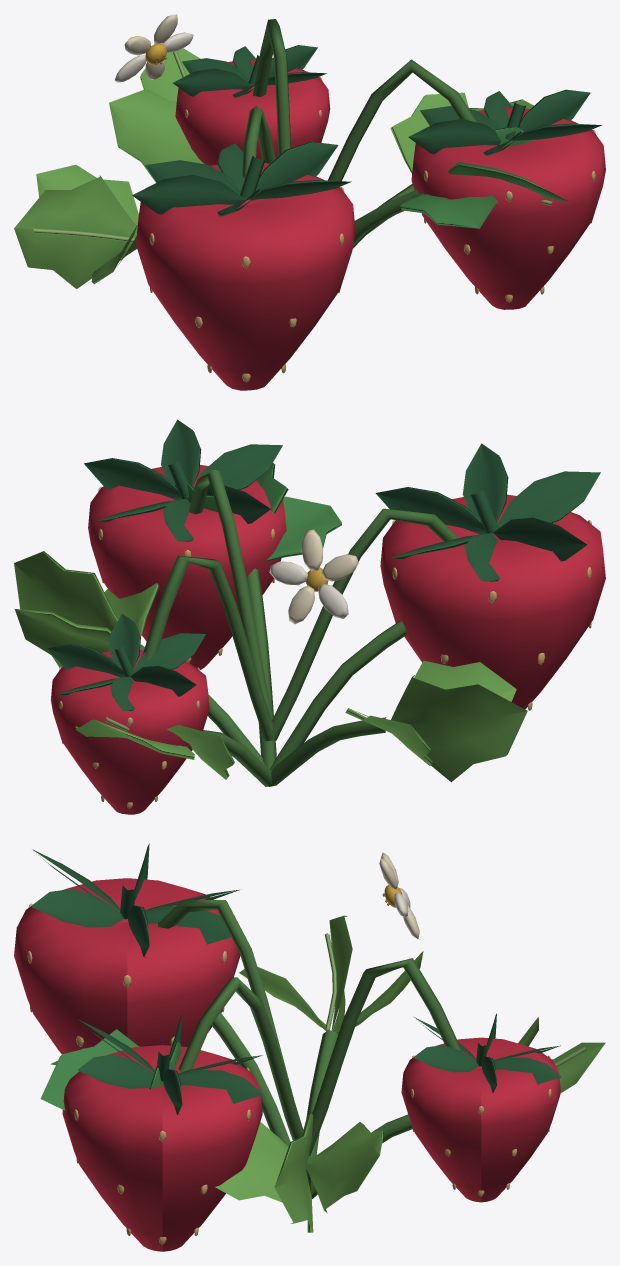
The model's file is fresa_3.glb.
3 renders of one model, top to bottom at view 1: azimuth 30°, elevation 25°; view 2: azimuth 150°, elevation 25°; view 3: azimuth 270°, elevation 25°, orthographic. The views are drawn at different scales.
Visible parts, largest first — view 1: fresa_3_roseta_0; view 2: fresa_3_roseta_0; view 3: fresa_3_roseta_0.
Boxes of the visible parts, left/top/right/bottom form: fresa_3_roseta_0: left=14, top=14, right=605, bottom=390; fresa_3_roseta_0: left=14, top=419, right=605, bottom=814; fresa_3_roseta_0: left=14, top=843, right=605, bottom=1251.
Bounding box in the file's own units: 0.5272 × 0.283 × 0.5016.
